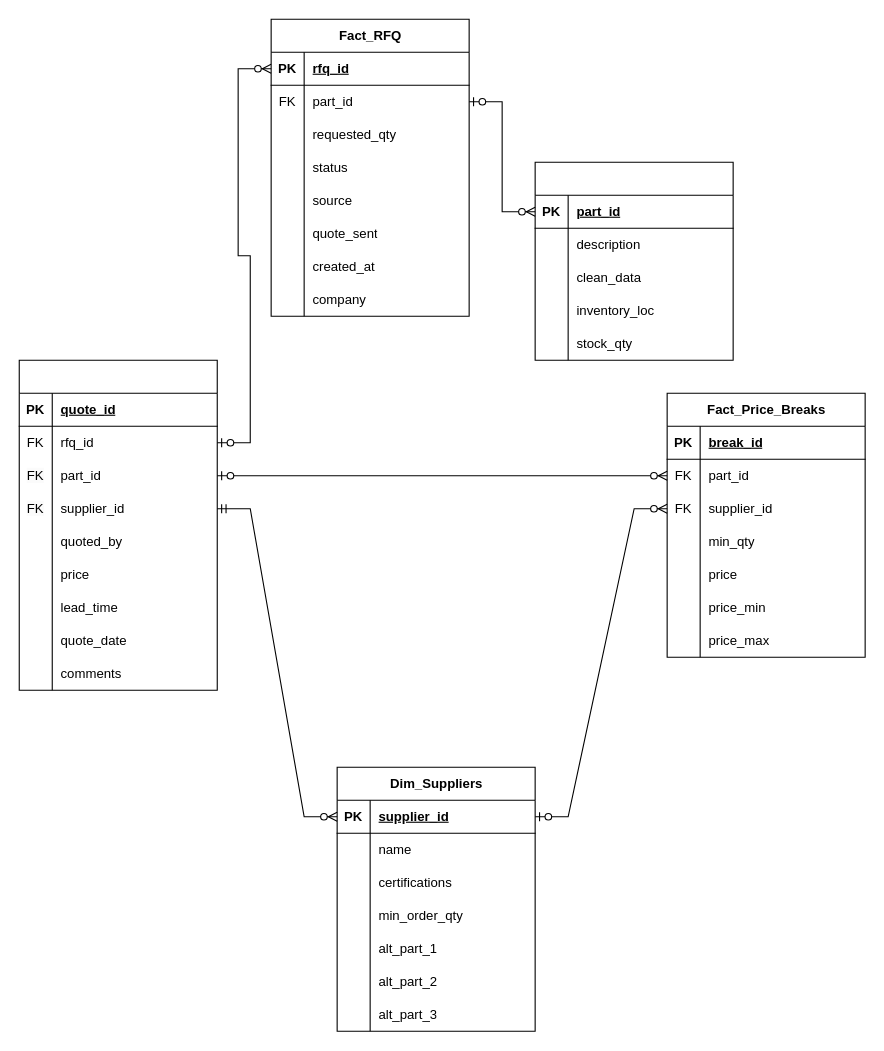
This 884x1051 diagram has some shape labels left out. The box of each missing label's shape, as (x1, y1, x2, y2) in pixels:
Dim_Parts: (534, 161, 733, 360)
Fact_Quotes: (18, 359, 217, 690)
